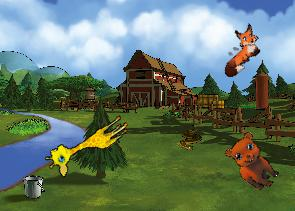bear: (219, 127, 289, 195)
fox: (208, 20, 270, 80)
giraffe: (41, 104, 132, 181)
